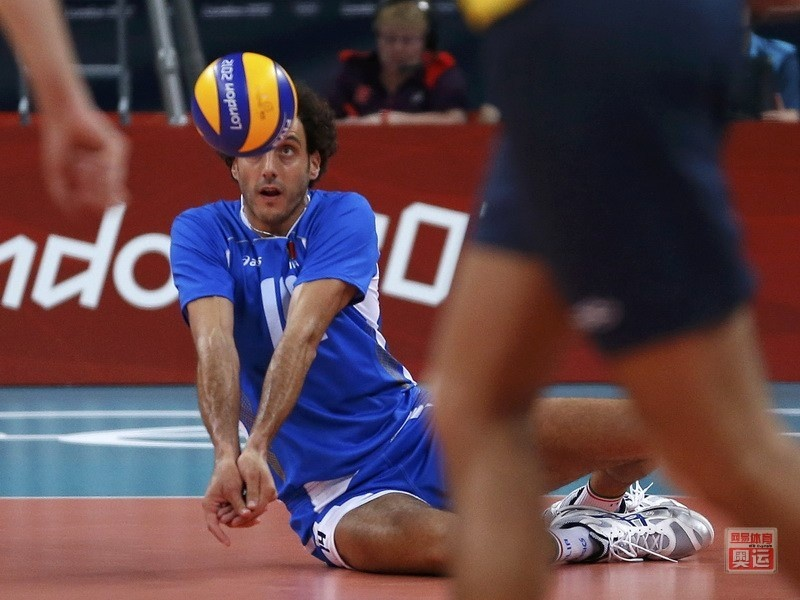falling: (161, 69, 721, 581)
